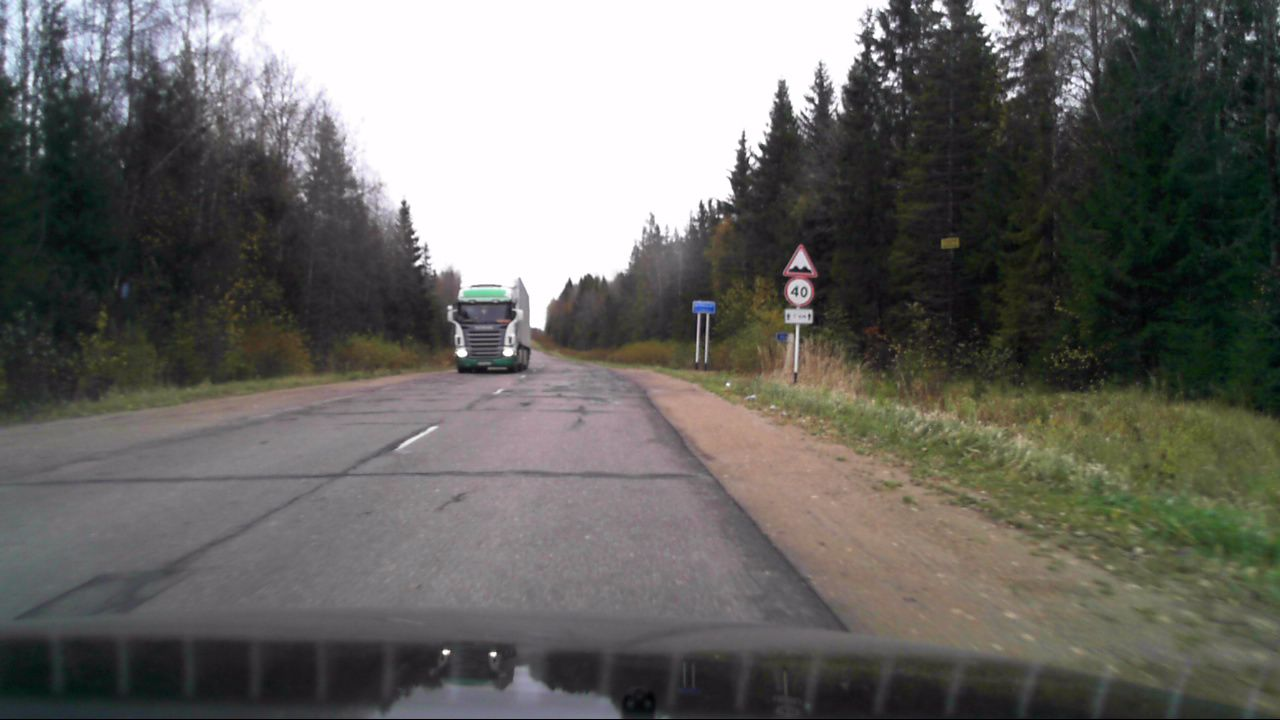speed_warning_40: (785, 276, 816, 307)
